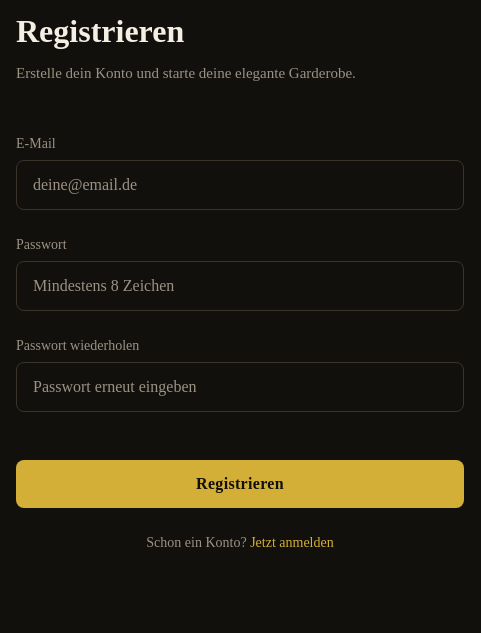
Test: Register › zeigt eine verständliche Fehlermeldung bei bereits vergebener E-Mail
Type "vergeben@example.de" into the field labelled "E-Mail".
click(240, 185); type("vergeben@example.de")  # box [16,160,464,210]
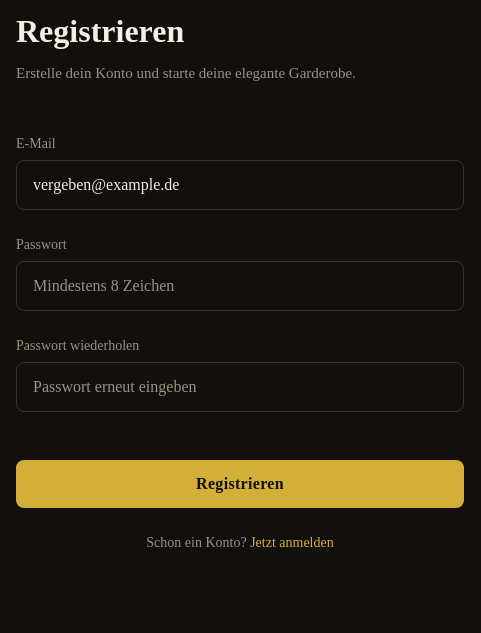
Type "sicheres-passwort" into the password field labelled "Passwort".
click(240, 286); type("sicheres-passwort")  # box [16,261,464,311]
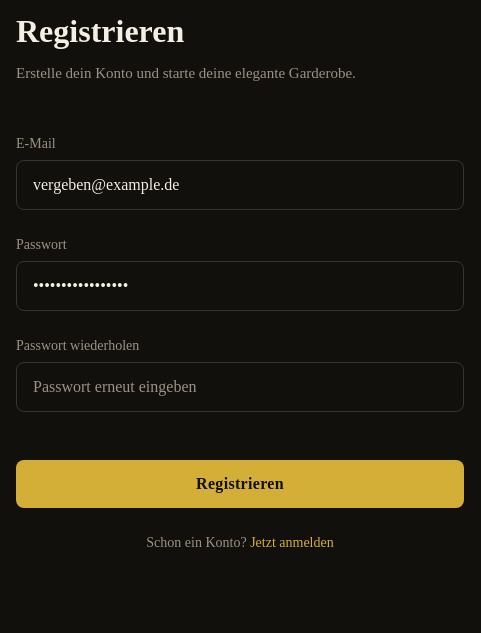
Type "sicheres-passwort" into the password field labelled "Passwort wiederholen".
click(240, 387); type("sicheres-passwort")  # box [16,362,464,412]
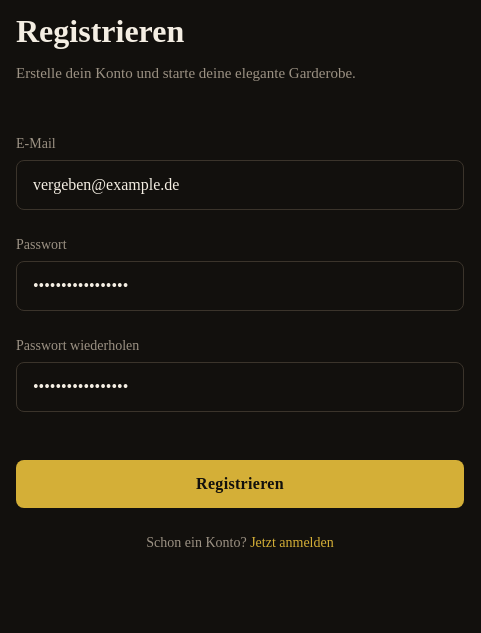
Submit the form from the button "Registrieren", box [16,460,464,508]
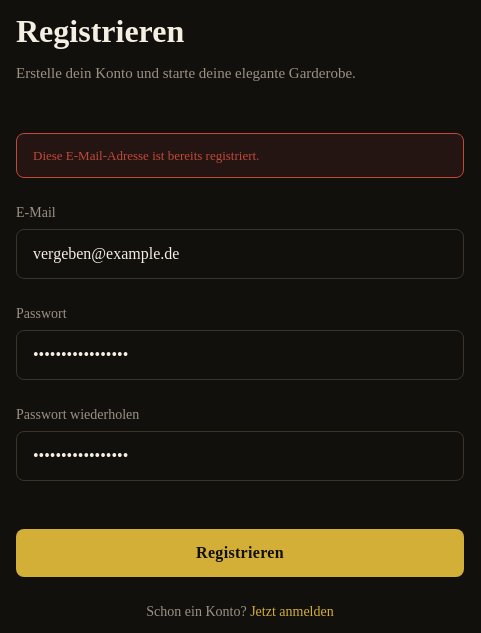
Now the message reads "Diese E-Mail-Adresse ist bereits registriert.", box [33,148,259,163]
